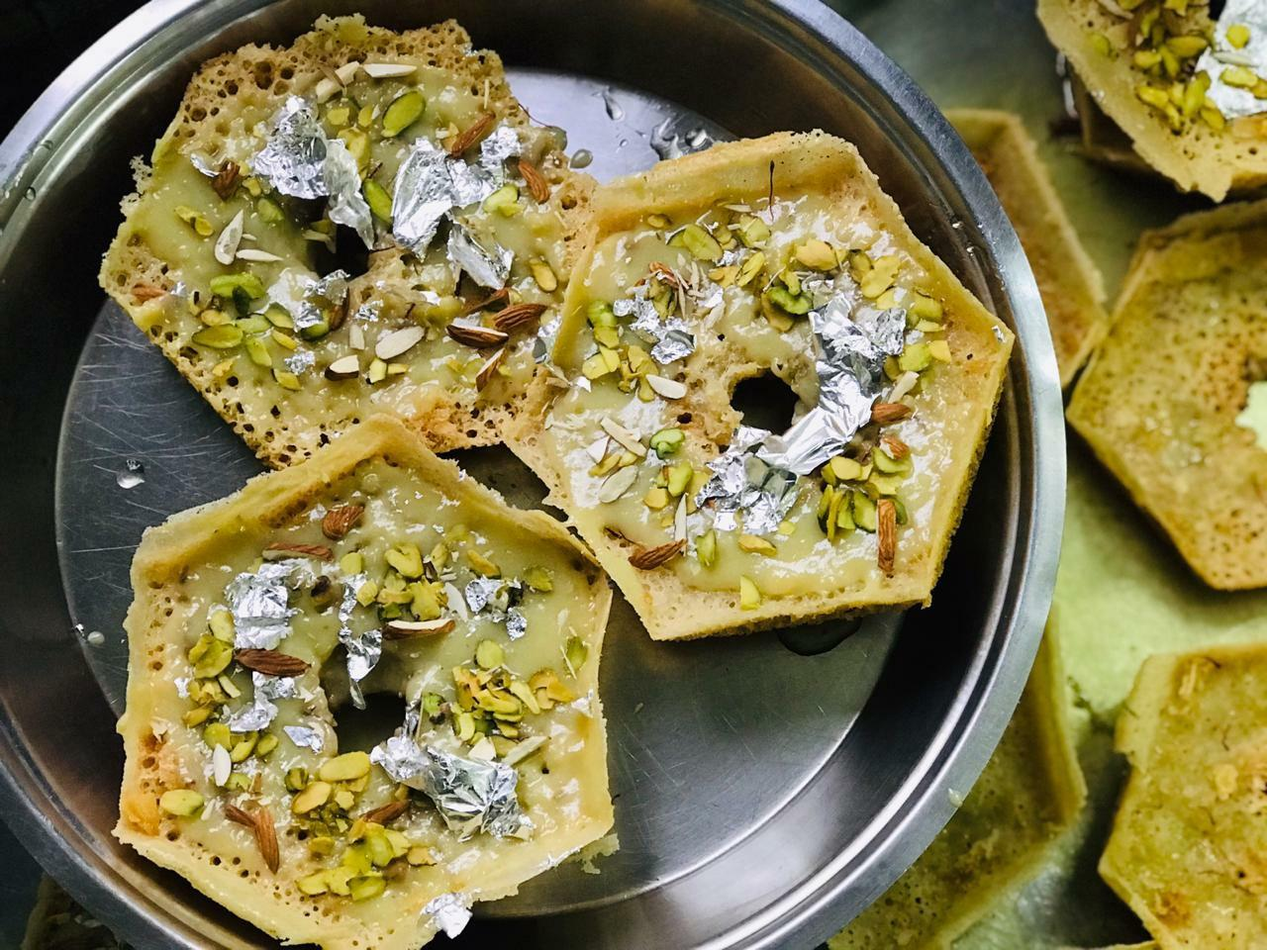Ghevar: (108, 408, 620, 950), (502, 123, 1015, 645), (102, 21, 576, 453), (1062, 198, 1267, 595), (1094, 635, 1267, 950), (1032, 0, 1267, 199)
